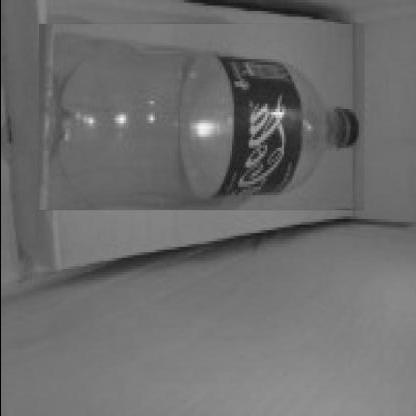plastic_bottles: (38, 24, 364, 211)
